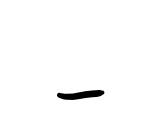minus: (57, 90, 104, 99)
